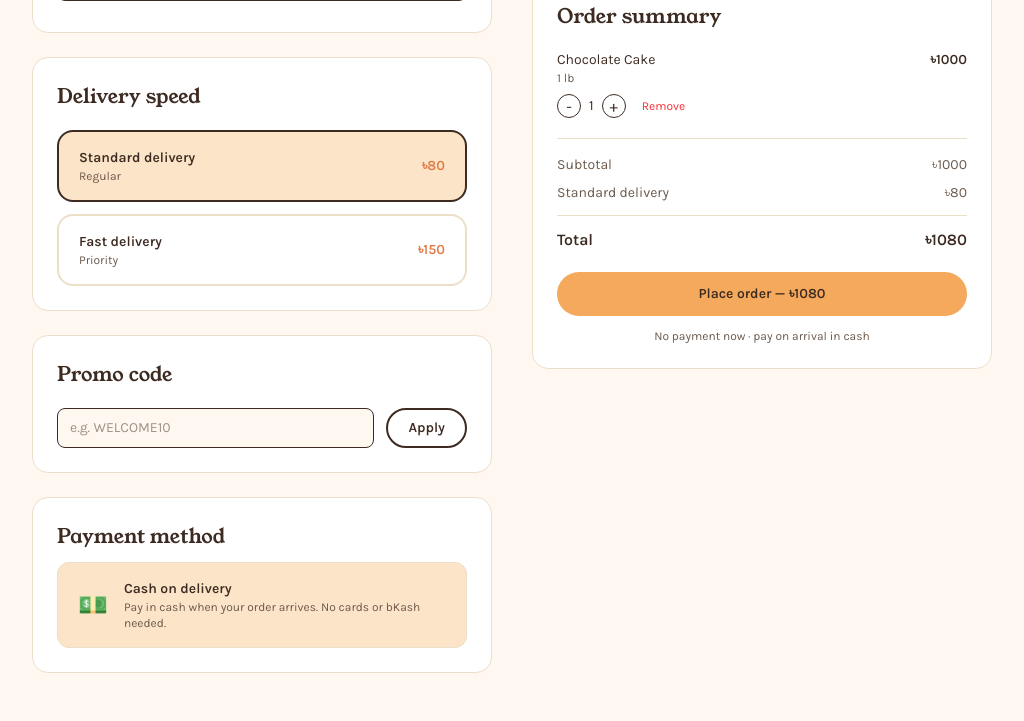
CheckoutPage - negative tests › handles inactive promo codes
(page scrolled)
Type "badcode" into the field with placeholder "e.g. WELCOME10" at (216, 428), box x1=57 y1=408 x2=374 y2=448
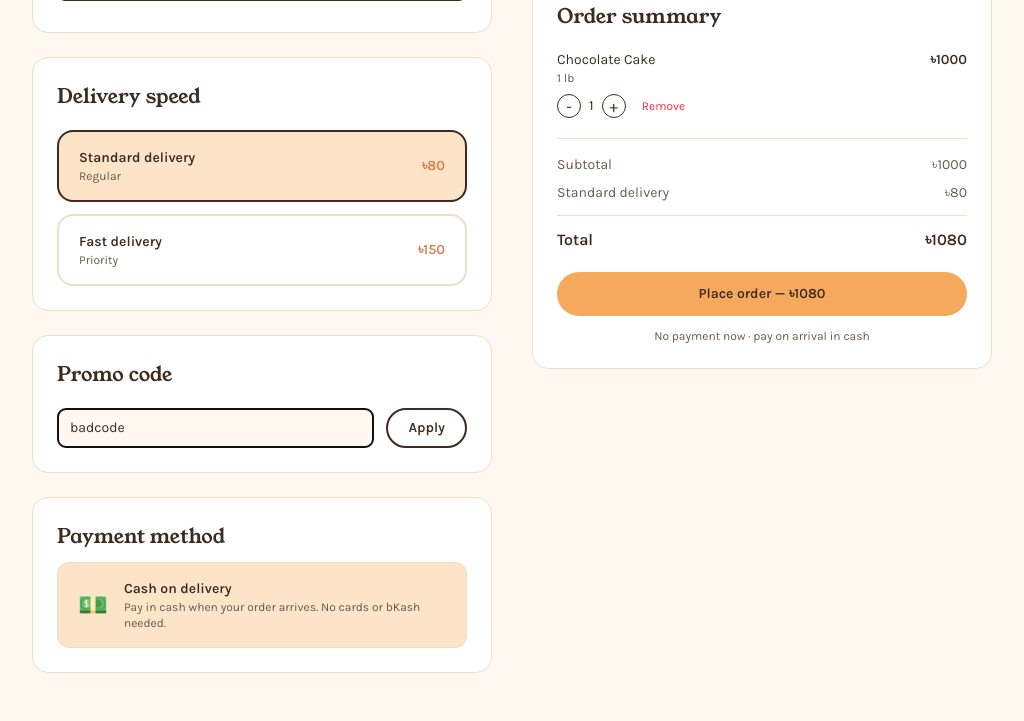
Click the button "Apply" at (427, 428), box x1=386 y1=408 x2=467 y2=448
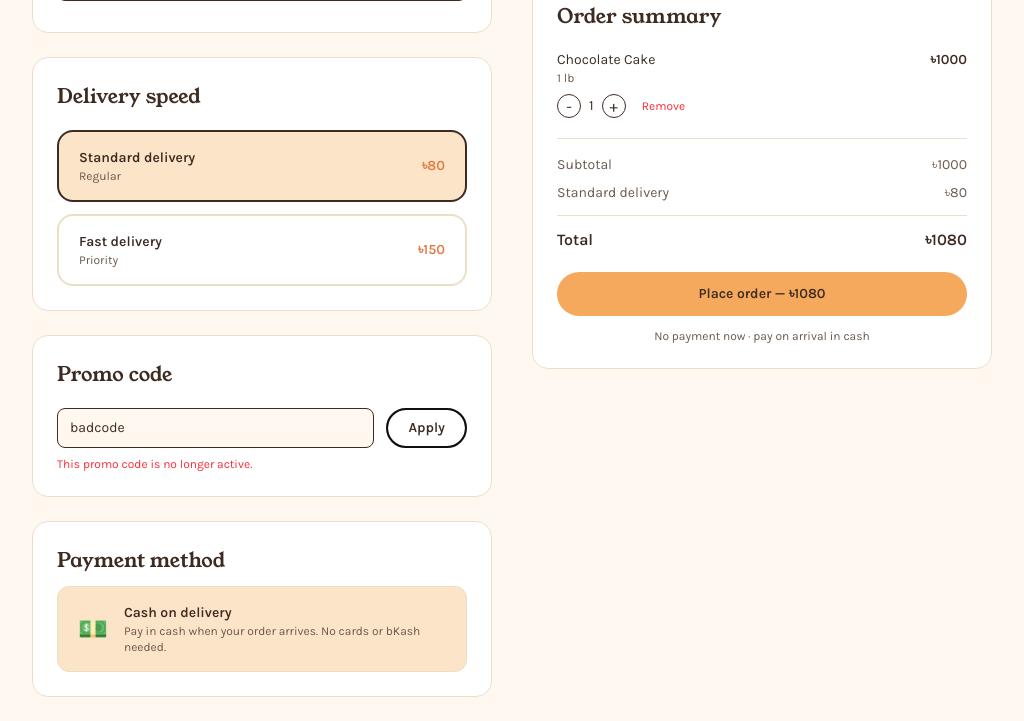
Expected: the text "This promo code is no longer active." is shown, x1=57 y1=457 x2=252 y2=471
